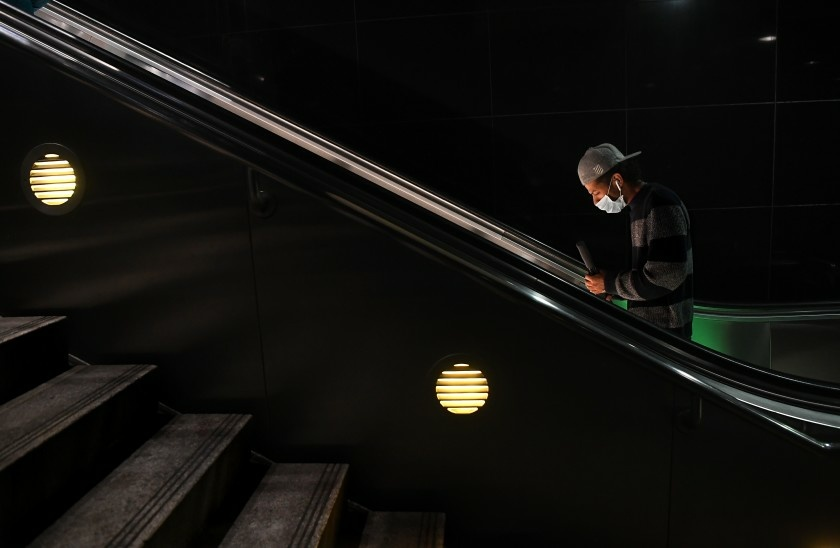with_mask: (576, 161, 637, 218)
